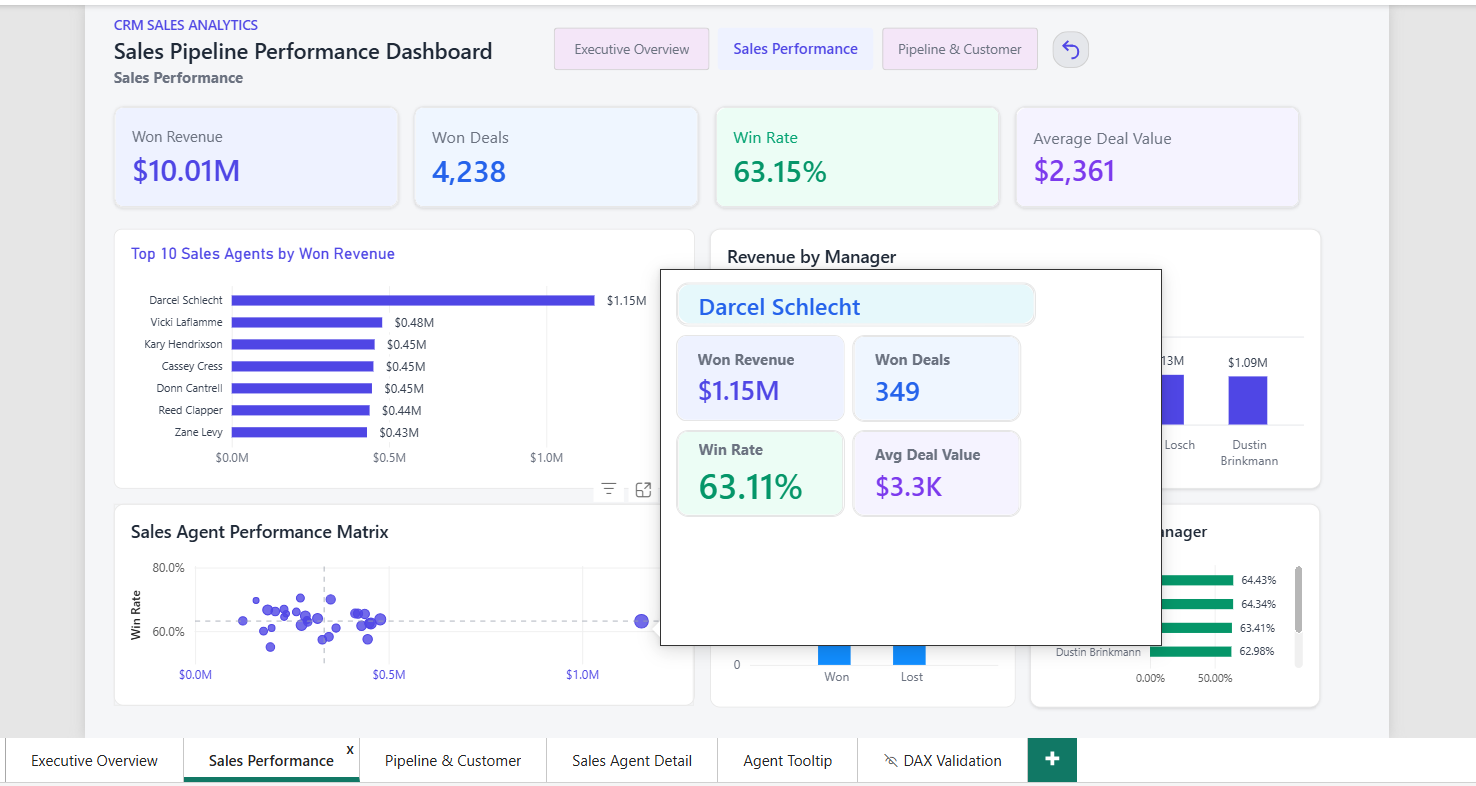

What the dashboard file says about the page in this screenshot:
{"tool":"powerbi","page":{"name":"Sales Performance","canvas":[1280,720],"ordinal":2},"visuals":[{"type":"cardVisual","fields":{"Data":["_Measures.Won Revenue"]},"box":[28,100,280,100],"z":3000},{"type":"cardVisual","fields":{"Data":["_Measures.Won Opportunities"]},"box":[323,100,280,100],"z":4000},{"type":"cardVisual","fields":{"Data":["_Measures.Win Rate %"]},"box":[618,100,280,100],"z":5000},{"type":"cardVisual","fields":{"Data":["_Measures.Average Won Deal Value"]},"box":[913,100,280,100],"z":6000},{"type":"clusteredBarChart","title":"Top 10 Sales Agents by Won Revenue","fields":{"Category":["sales_teams.sales_agent"],"Y":["_Measures.Won Revenue","select"]},"box":[28,220,570,255],"z":7000},{"type":"clusteredColumnChart","title":"Revenue by Manager","fields":{"Category":["sales_teams.manager"],"Y":["_Measures.Won Revenue"]},"box":[613,220,600,255],"z":8000},{"type":"scatterChart","title":"Sales Agent Performance Matrix","fields":{"Category":["sales_teams.sales_agent"],"Size":["_Measures.Won Opportunities"],"X":["_Measures.Won Revenue"],"Y":["_Measures.Win Rate %"]},"box":[28,490,570,198],"z":9000},{"type":"clusteredColumnChart","title":"Average Sales Cycle by Outcome","fields":{"Category":["sales_pipeline.deal_stage"],"Y":["_Measures.Average Sales Cycle"]},"box":[613,490,300,200],"z":10000},{"type":"clusteredBarChart","title":"Win Rate by Manager","fields":{"Category":["sales_teams.manager"],"Y":["_Measures.Win Rate %"]},"box":[928,490,285,200],"z":11000},{"type":"textbox","box":[28,10,200,18],"z":11002},{"type":"textbox","box":[28,29,420,32],"z":11003},{"type":"textbox","box":[28,60,200,22],"z":11004},{"type":"pageNavigator","box":[460,22,475,42],"z":11005},{"type":"actionButton","box":[950,26,36,36],"z":11006}]}

Visuals, with their boxes on the page's 1280x720 design canvas (x1, y1, x2, y2). These are canvas units, not pixel positions in the 1476x786 screenshot, which may show the page scaled, cropped or inside an application window:
cardVisual - _Measures.Won Revenue: x1=28 y1=100 x2=308 y2=200
cardVisual - _Measures.Won Opportunities: x1=323 y1=100 x2=603 y2=200
cardVisual - _Measures.Win Rate %: x1=618 y1=100 x2=898 y2=200
cardVisual - _Measures.Average Won Deal Value: x1=913 y1=100 x2=1193 y2=200
"Top 10 Sales Agents by Won Revenue" clusteredBarChart: x1=28 y1=220 x2=598 y2=475
"Revenue by Manager" clusteredColumnChart: x1=613 y1=220 x2=1213 y2=475
"Sales Agent Performance Matrix" scatterChart: x1=28 y1=490 x2=598 y2=688
"Average Sales Cycle by Outcome" clusteredColumnChart: x1=613 y1=490 x2=913 y2=690
"Win Rate by Manager" clusteredBarChart: x1=928 y1=490 x2=1213 y2=690
textbox: x1=28 y1=10 x2=228 y2=28
textbox: x1=28 y1=29 x2=448 y2=61
textbox: x1=28 y1=60 x2=228 y2=82
pageNavigator: x1=460 y1=22 x2=935 y2=64
actionButton: x1=950 y1=26 x2=986 y2=62
